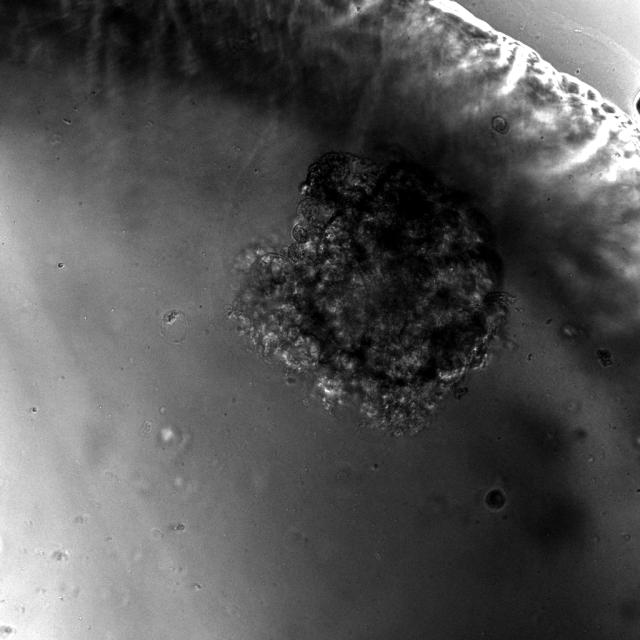organoid: (227, 152, 513, 435), (484, 488, 506, 511), (595, 348, 612, 368)
